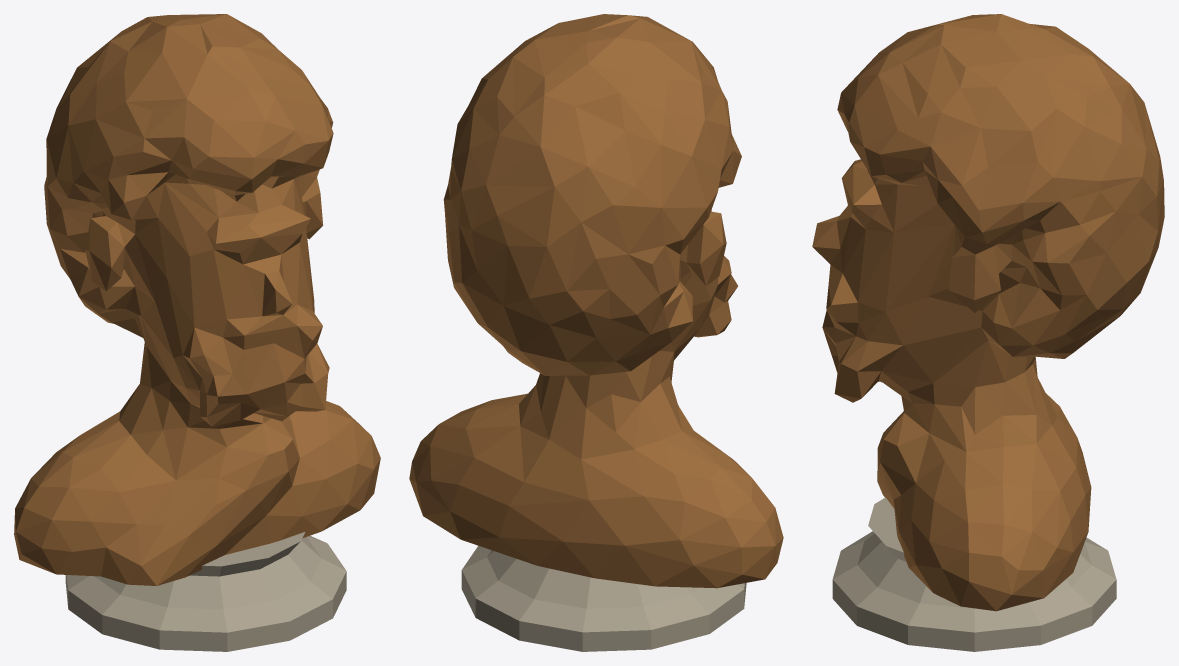
File: busto_filosofo.glb
3 views of the same model, side by side, from view 1: azimuth 30°, elevation 25°; view 2: azimuth 150°, elevation 25°; view 3: azimuth 270°, elevation 25° (orthographic).
Parts seen in each view (by area): view 1: busto_filosofo; view 2: busto_filosofo; view 3: busto_filosofo.
Part boxes in pixels (left/top/right/bottom): busto_filosofo: left=14, top=14, right=380, bottom=651; busto_filosofo: left=409, top=14, right=783, bottom=651; busto_filosofo: left=812, top=14, right=1164, bottom=651.
Size of the model in its own units: 0.2297 by 0.3492 by 0.1972.
